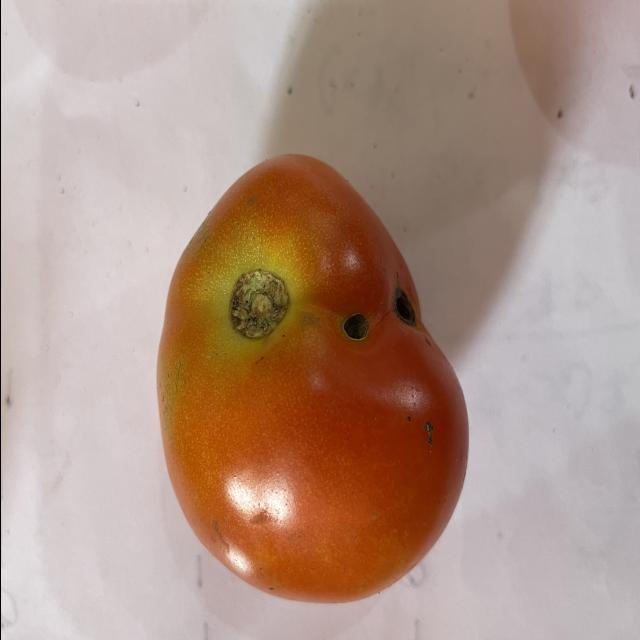fruitworm_bore: (338, 281, 422, 349)
